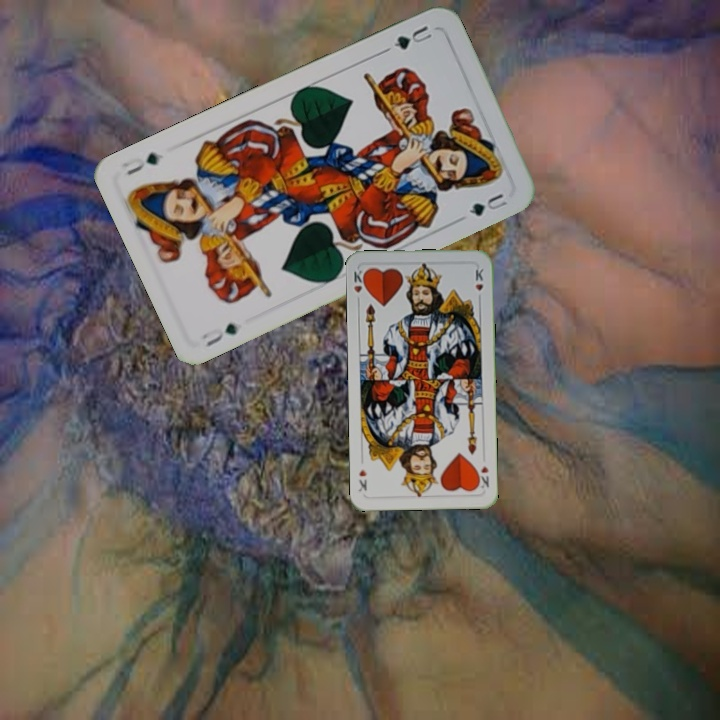GU: (389, 21, 435, 52), (198, 318, 241, 350)
HK: (350, 265, 369, 306), (473, 462, 491, 491)
